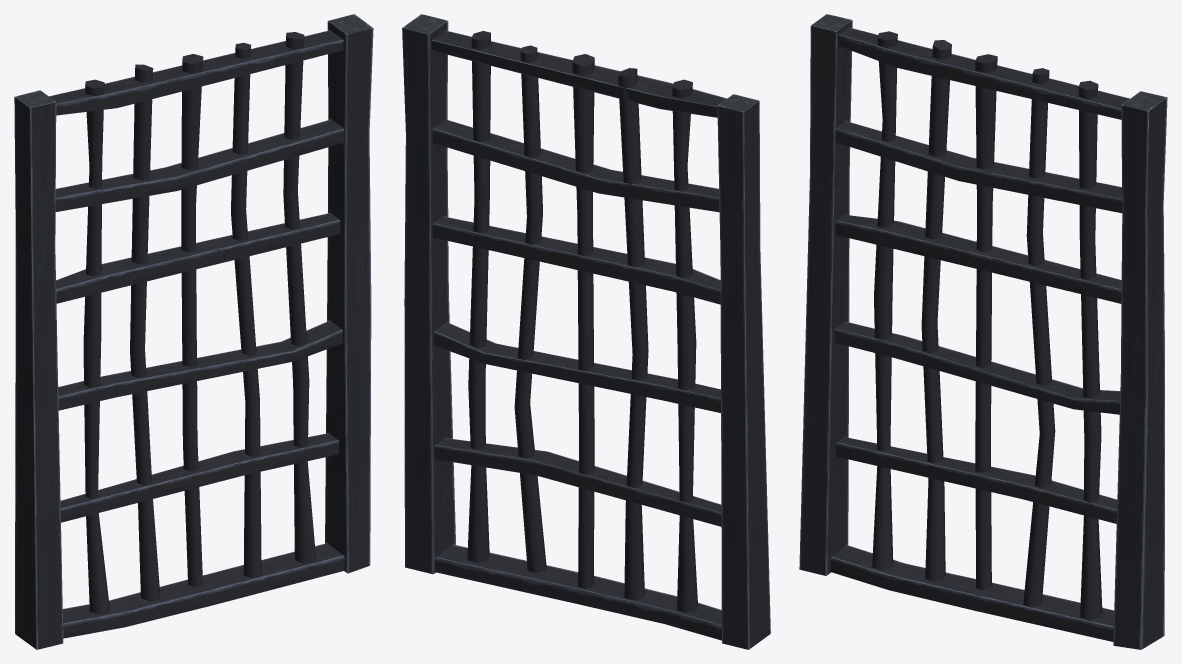
The model's file is SM_PROP_bars_wall_dungeon_02.fbx.
3 renders of one model, left to right at view 1: azimuth 30°, elevation 25°; view 2: azimuth 150°, elevation 25°; view 3: azimuth 330°, elevation 25°, orthographic.
Visible parts, largest first — view 1: SM_PROP_bars_wall_dungeon_02; view 2: SM_PROP_bars_wall_dungeon_02; view 3: SM_PROP_bars_wall_dungeon_02.
Boxes of the visible parts, x1,y1,x2,y2 form: SM_PROP_bars_wall_dungeon_02: [14, 14, 373, 649]; SM_PROP_bars_wall_dungeon_02: [402, 14, 770, 649]; SM_PROP_bars_wall_dungeon_02: [799, 14, 1167, 649].
Bounding box in the file's own units: 201 × 304 × 25.24.
